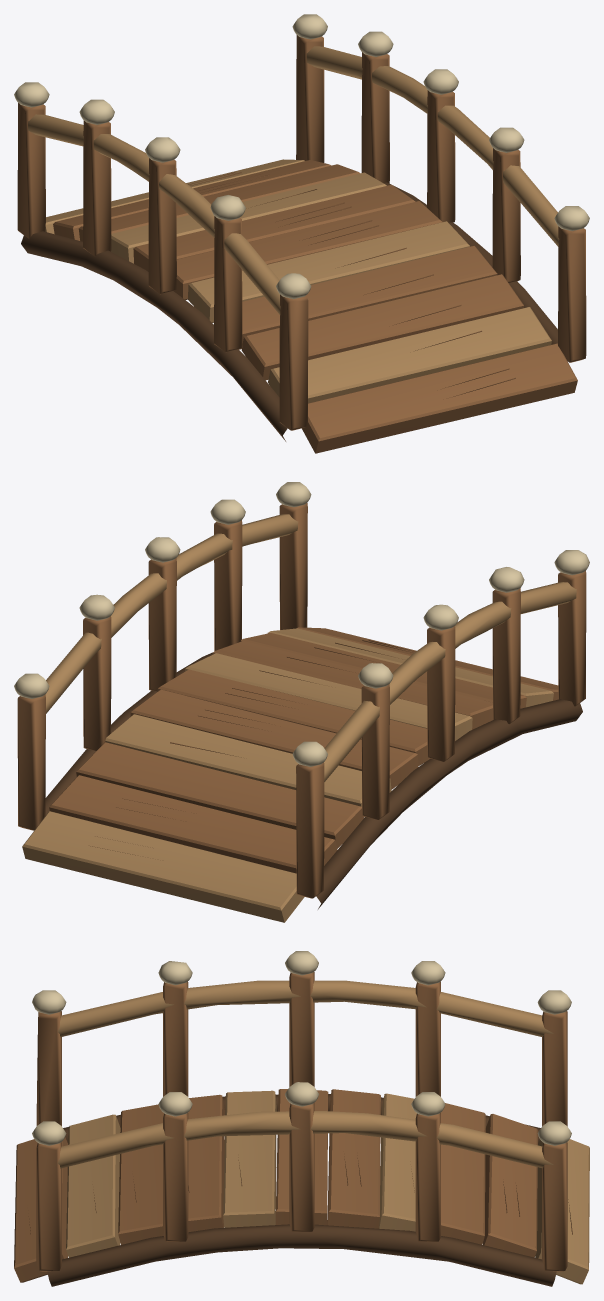
Rendered from puente_madera_lod.glb.
3 renders of one model, top to bottom at view 1: azimuth 30°, elevation 25°; view 2: azimuth 150°, elevation 25°; view 3: azimuth 270°, elevation 25°, orthographic. The views are drawn at different scales.
Parts seen in each view (by area): view 1: puente_madera; view 2: puente_madera; view 3: puente_madera.
Part boxes in pixels (x1,y1,x2,y2): puente_madera: (14,14,589,453); puente_madera: (14,482,589,922); puente_madera: (14,951,589,1286).
Bounding box in the file's own units: 1.55 × 1.02 × 2.6.
